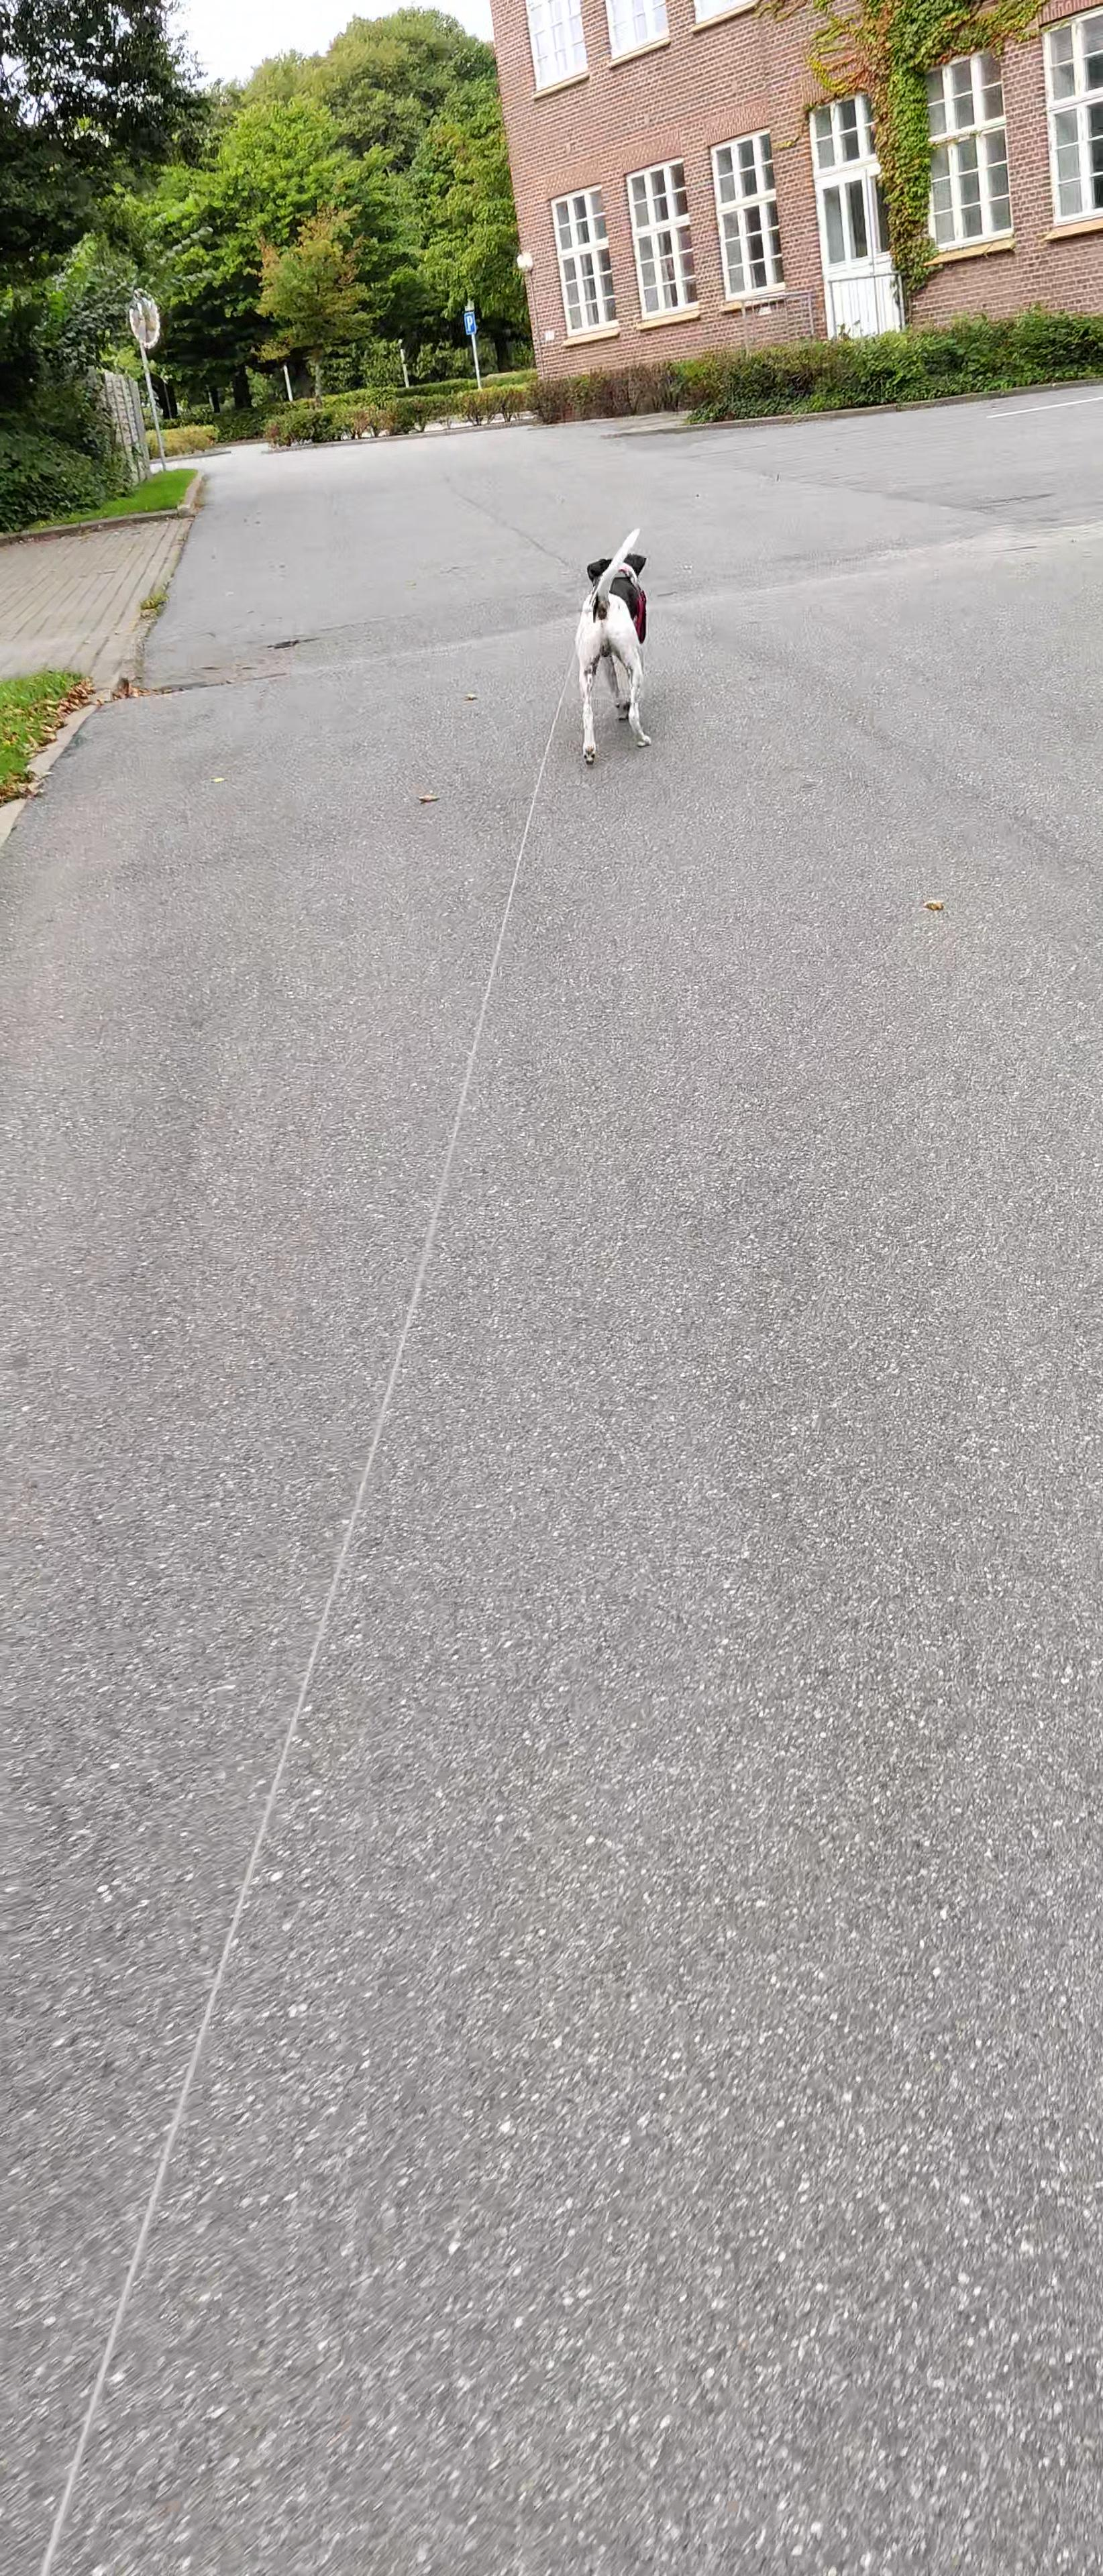Dog: (559, 513, 672, 779)
